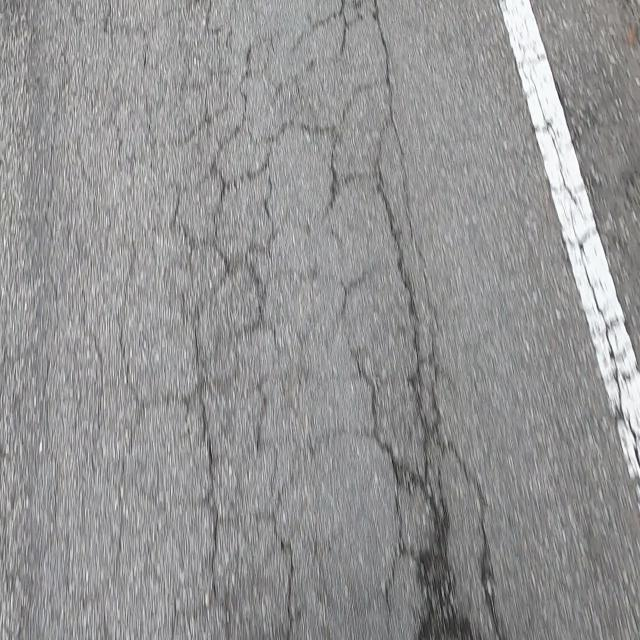Retak-Buaya: (44, 0, 505, 640)
